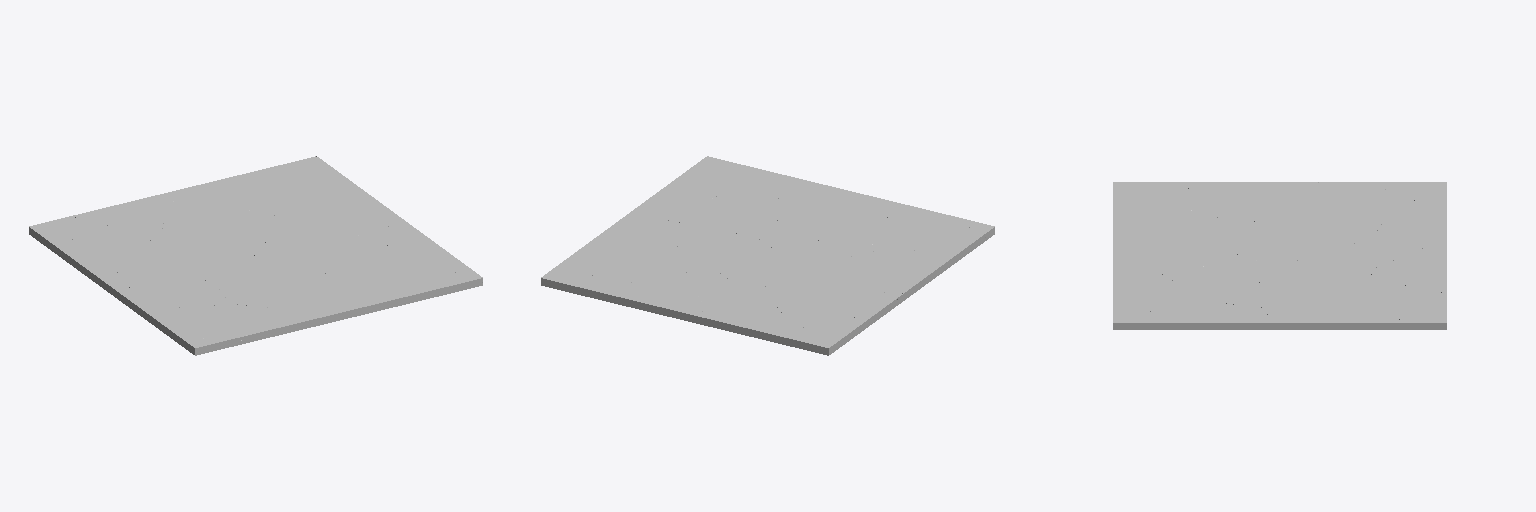
File: BrokenFloor.obj
3 renders of one model, left to right at view 1: azimuth 30°, elevation 25°; view 2: azimuth 150°, elevation 25°; view 3: azimuth 270°, elevation 25°, orthographic.
Parts seen in each view (by area): view 1: MeshInstance3D_cell.019, MeshInstance3D_cell.023, MeshInstance3D_cell.013, MeshInstance3D_cell.008, MeshInstance3D_cell, MeshInstance3D_cell.022, MeshInstance3D_cell.016, MeshInstance3D_cell.006, MeshInstance3D_cell.021, MeshInstance3D_cell.002, MeshInstance3D_cell.009, MeshInstance3D_cell.011 (+9 smaller); view 2: MeshInstance3D_cell.019, MeshInstance3D_cell.023, MeshInstance3D_cell.013, MeshInstance3D_cell, MeshInstance3D_cell.022, MeshInstance3D_cell.002, MeshInstance3D_cell.016, MeshInstance3D_cell.008, MeshInstance3D_cell.006, MeshInstance3D_cell.009, MeshInstance3D_cell.021, MeshInstance3D_cell.011 (+8 smaller); view 3: MeshInstance3D_cell.019, MeshInstance3D_cell.023, MeshInstance3D_cell.013, MeshInstance3D_cell.021, MeshInstance3D_cell.022, MeshInstance3D_cell, MeshInstance3D_cell.016, MeshInstance3D_cell.008, MeshInstance3D_cell.006, MeshInstance3D_cell.002, MeshInstance3D_cell.009, MeshInstance3D_cell.011 (+7 smaller).
Part boxes in pixels (left/top/right/bottom): MeshInstance3D_cell.019: left=255, top=175, right=401, bottom=231; MeshInstance3D_cell.023: left=109, top=230, right=206, bottom=302; MeshInstance3D_cell.013: left=214, top=265, right=360, bottom=307; MeshInstance3D_cell.008: left=354, top=261, right=482, bottom=314; MeshInstance3D_cell: left=164, top=304, right=283, bottom=349; MeshInstance3D_cell.022: left=286, top=231, right=394, bottom=280; MeshInstance3D_cell.016: left=233, top=212, right=369, bottom=256; MeshInstance3D_cell.006: left=72, top=224, right=160, bottom=283; MeshInstance3D_cell.021: left=381, top=219, right=482, bottom=285; MeshInstance3D_cell.002: left=165, top=171, right=264, bottom=210; MeshInstance3D_cell.009: left=73, top=193, right=167, bottom=229; MeshInstance3D_cell.011: left=205, top=254, right=287, bottom=291; MeshInstance3D_cell.019: left=566, top=216, right=685, bottom=285; MeshInstance3D_cell.023: left=764, top=251, right=909, bottom=297; MeshInstance3D_cell.013: left=774, top=192, right=883, bottom=247; MeshInstance3D_cell: left=878, top=206, right=986, bottom=255; MeshInstance3D_cell.022: left=663, top=197, right=779, bottom=237; MeshInstance3D_cell.002: left=603, top=273, right=705, bottom=322; MeshInstance3D_cell.016: left=669, top=221, right=760, bottom=275; MeshInstance3D_cell.008: left=707, top=156, right=826, bottom=198; MeshInstance3D_cell.006: left=770, top=292, right=902, bottom=327; MeshInstance3D_cell.009: left=692, top=298, right=793, bottom=344; MeshInstance3D_cell.021: left=626, top=157, right=716, bottom=216; MeshInstance3D_cell.011: left=762, top=235, right=873, bottom=268; MeshInstance3D_cell.019: left=1261, top=272, right=1427, bottom=329; MeshInstance3D_cell.023: left=1215, top=184, right=1372, bottom=235; MeshInstance3D_cell.013: left=1131, top=217, right=1237, bottom=275; MeshInstance3D_cell.021: left=1113, top=299, right=1276, bottom=329; MeshInstance3D_cell.022: left=1168, top=257, right=1263, bottom=307; MeshInstance3D_cell: left=1113, top=182, right=1204, bottom=226; MeshInstance3D_cell.016: left=1255, top=259, right=1361, bottom=304; MeshInstance3D_cell.008: left=1113, top=264, right=1191, bottom=323; MeshInstance3D_cell.006: left=1295, top=182, right=1421, bottom=227; MeshInstance3D_cell.002: left=1365, top=246, right=1446, bottom=292; MeshInstance3D_cell.009: left=1373, top=203, right=1446, bottom=248; MeshInstance3D_cell.011: left=1221, top=214, right=1299, bottom=261.
Size of the model in its own units: 24 by 0.6 by 24.